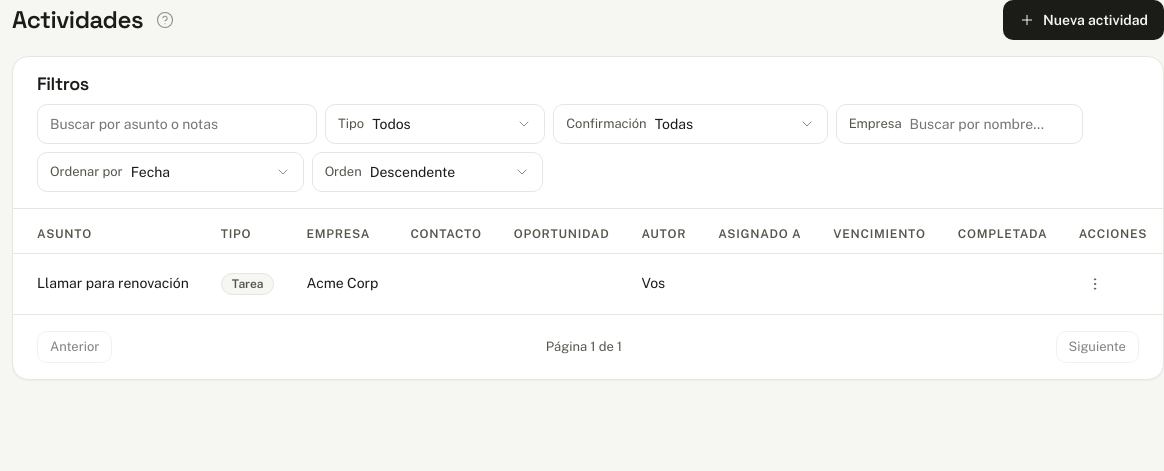
it: ActivityListPage › delete: confirma, ejecuta la mutation y muestra error si falla
The width and height of the screenshot is (1164, 471).
Check: the text "Llamar para renovación" is shown, box [13, 253, 205, 314]
Click the button named "Más acciones" at (1094, 284), box [1078, 268, 1110, 300]
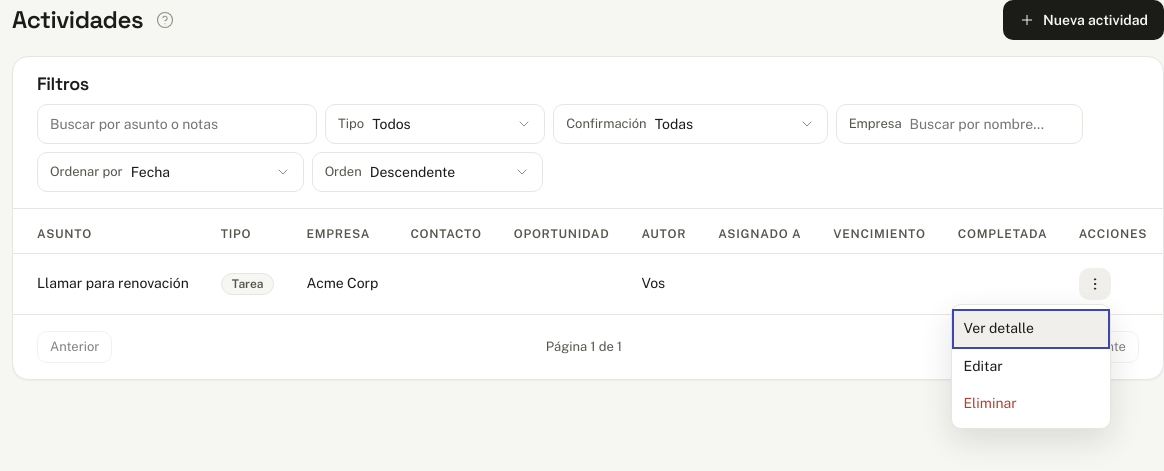
Click the menu item "Eliminar" at (1030, 404), box [952, 384, 1110, 424]
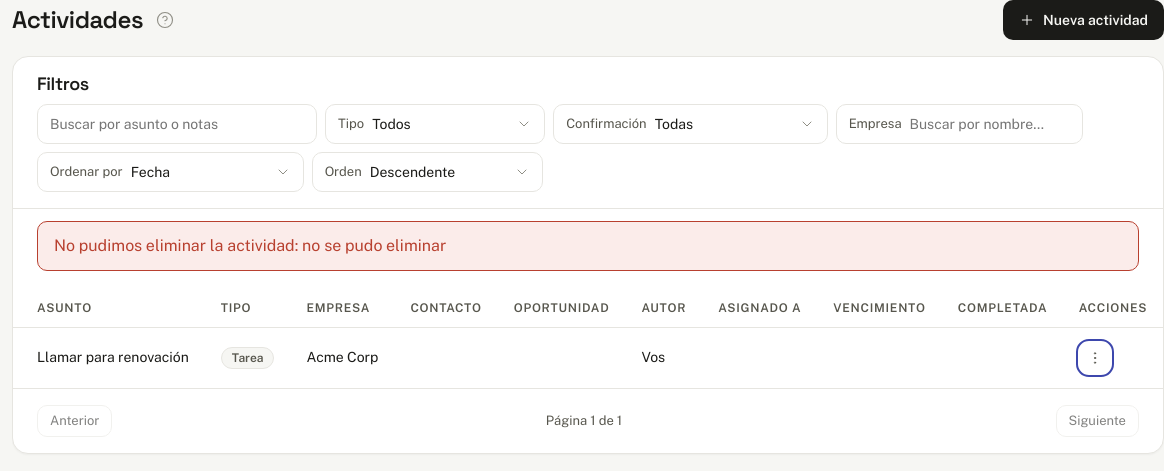
Check: the text "No pudimos eliminar la actividad: no se pudo eliminar" is shown, box [37, 220, 1139, 270]
